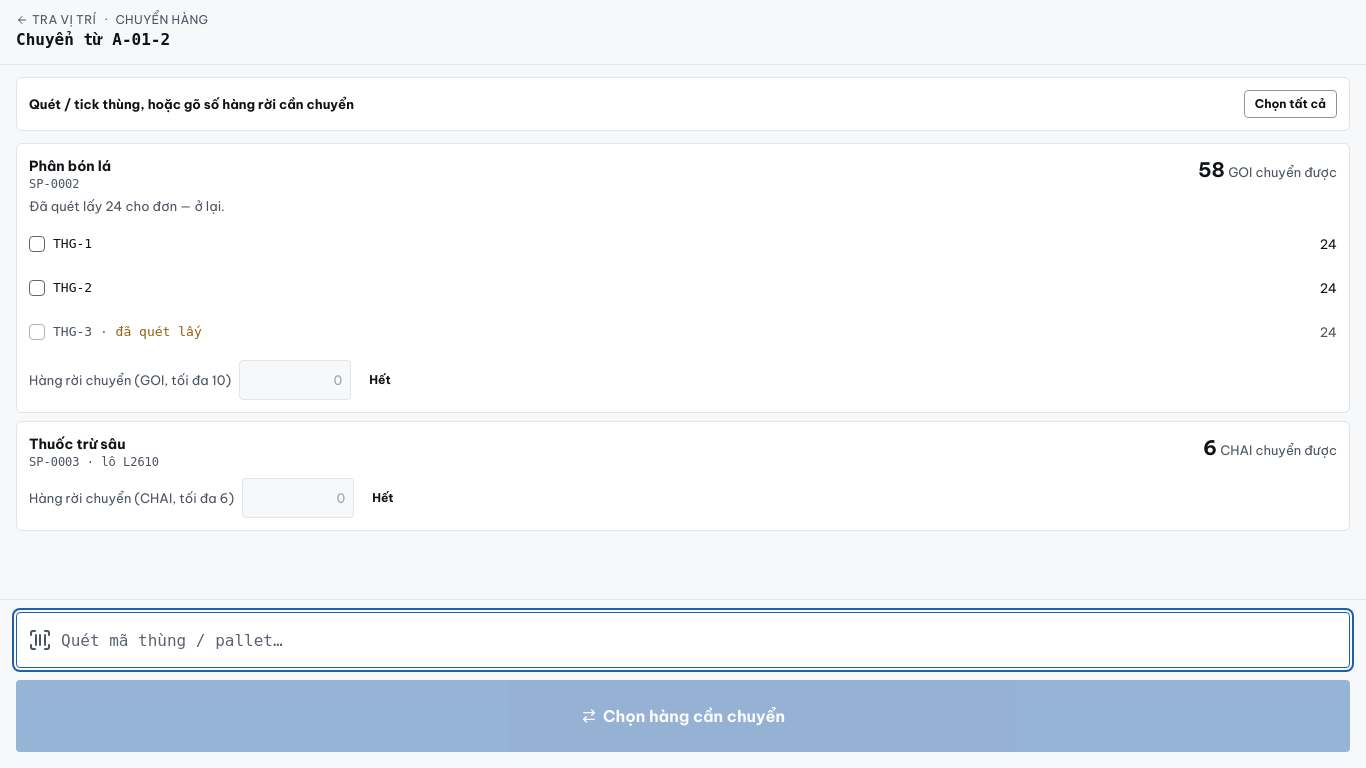
Test case: Chuyển hàng web (LOC-8) › quét thùng + gõ hàng rời → quét vị trí đích → chuyển; kết quả trỏ lại / tách / sự cố
Expected: the list named "Hàng chuyển được" is shown, [16,143,1350,531]
In the field labelled "Quét mã thùng / pallet…": (683, 640) [16,612,1350,668], type "THG-1"
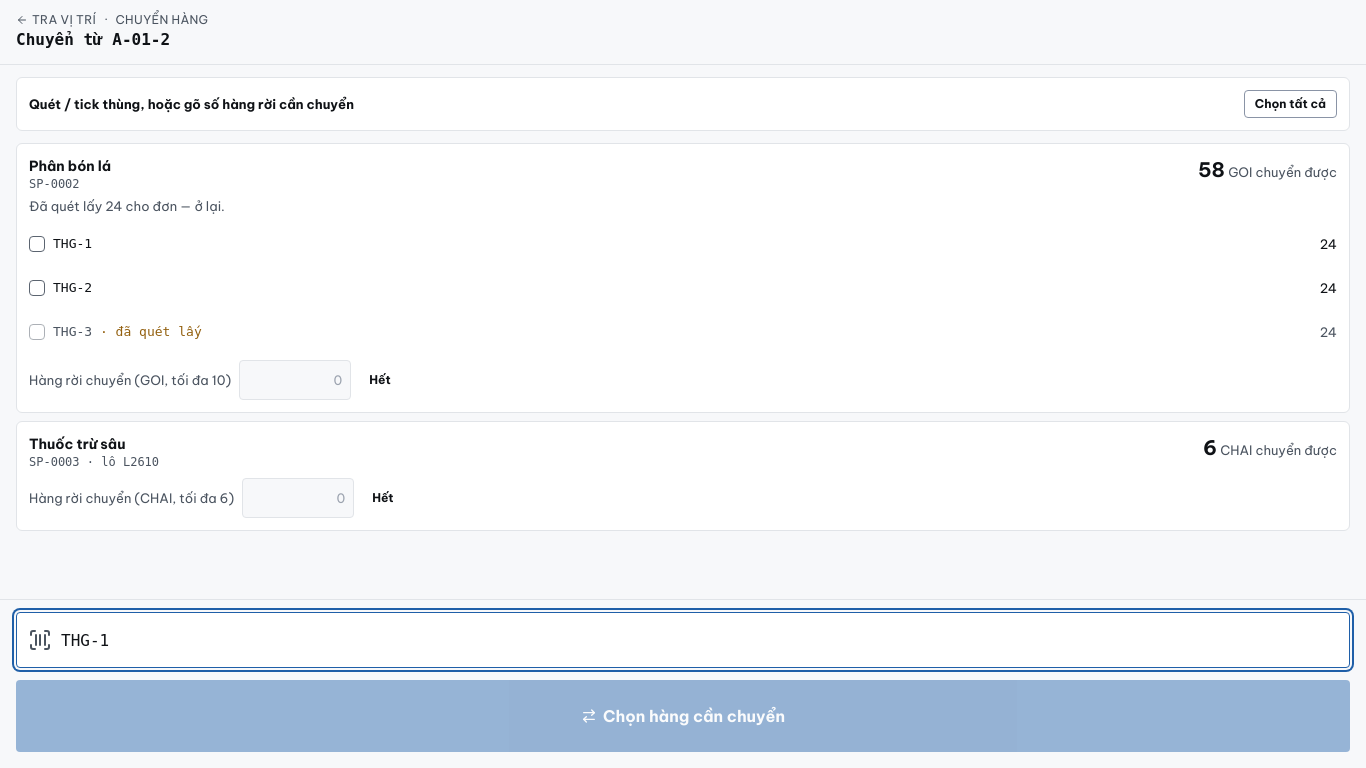
Press Enter in the field named "Quét", box [16,612,1350,668]
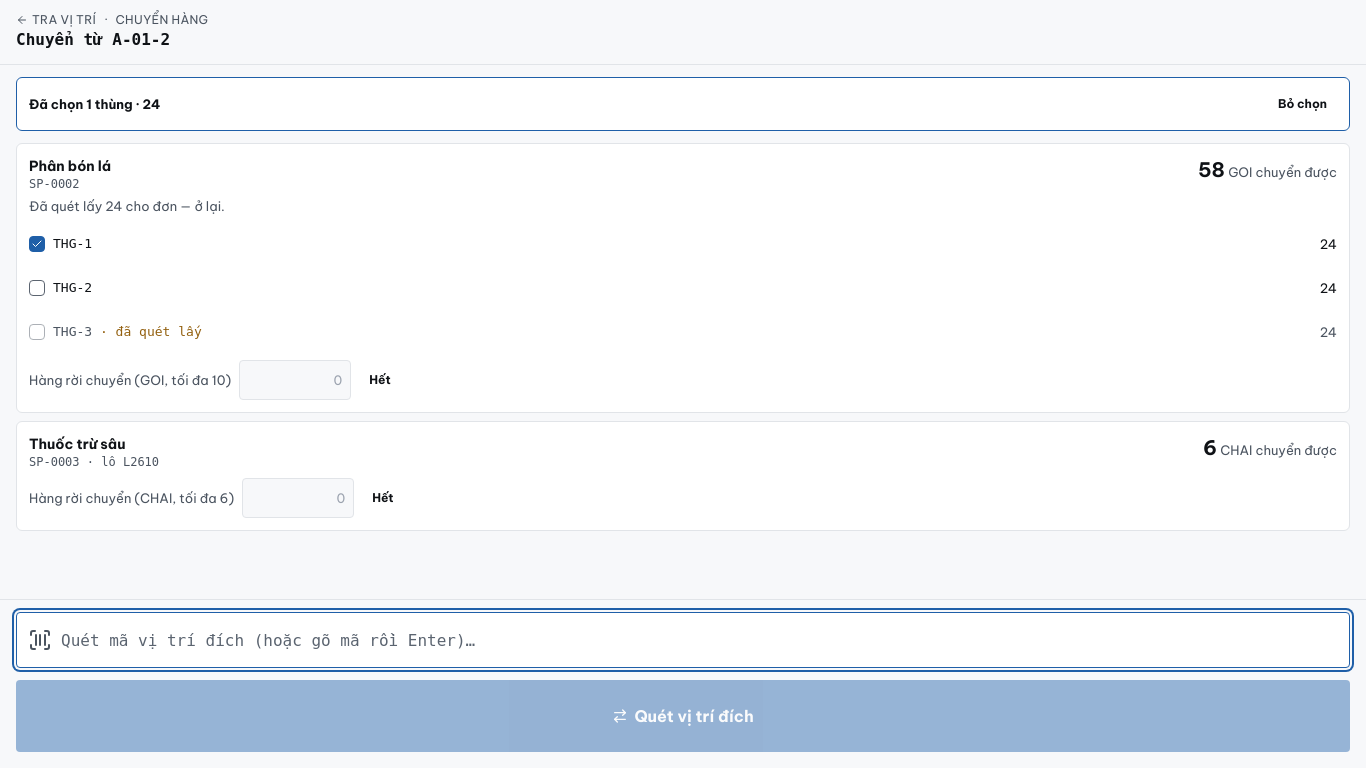
Expected: the checkbox named "Chọn thùng THG-3" is disabled, [29,324,45,340]
Expected: the checkbox named "Chọn thùng THG-1" is checked, [29,236,45,252]
In the field named "Hàng rời SP-0003 chuyển": (298, 498) [242,478,354,518], type "4"
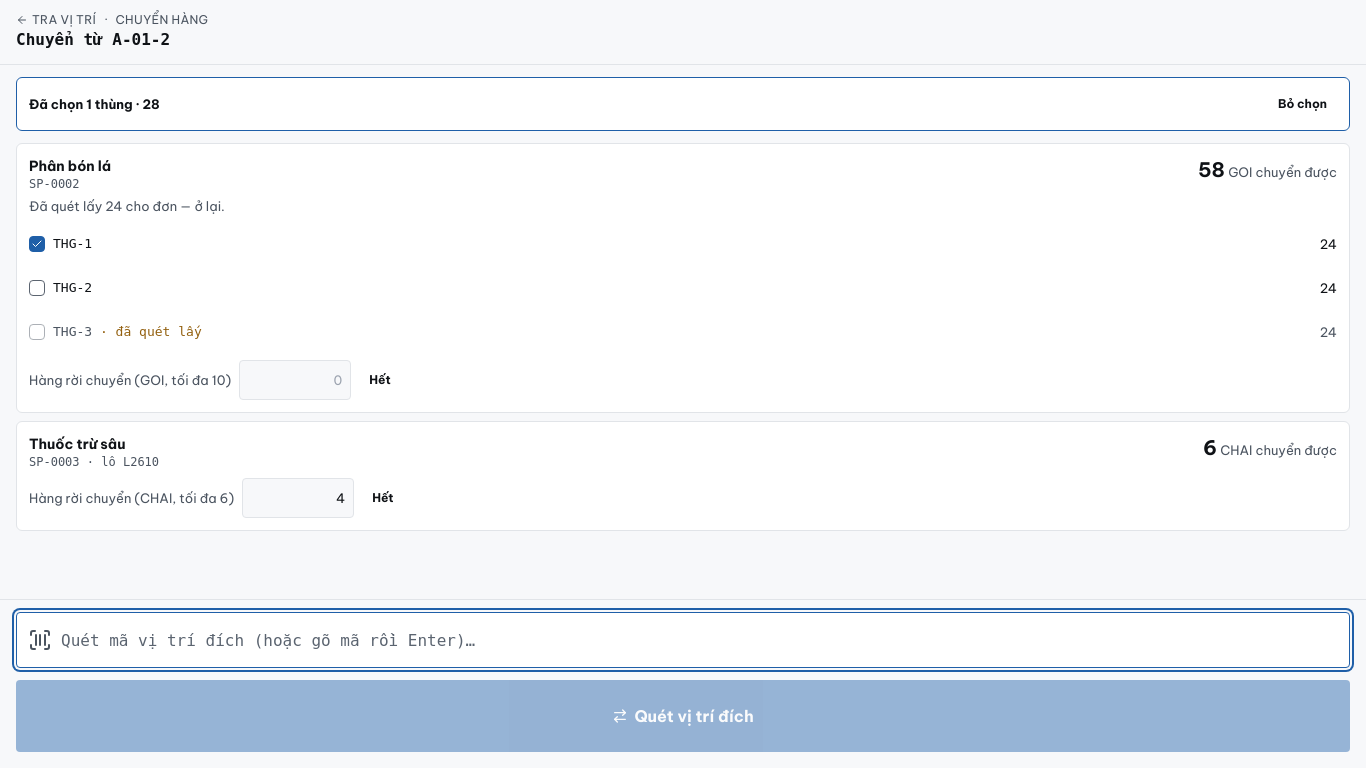
Expected: the element "Đã chọn" shows "Đã chọn 1 thùng · 28", [29,96,160,112]
In the field labelled "Quét mã vị trí đích (hoặc gõ mã rồi Enter)…": (683, 640) [16,612,1350,668], type "LOC-B-02-1"
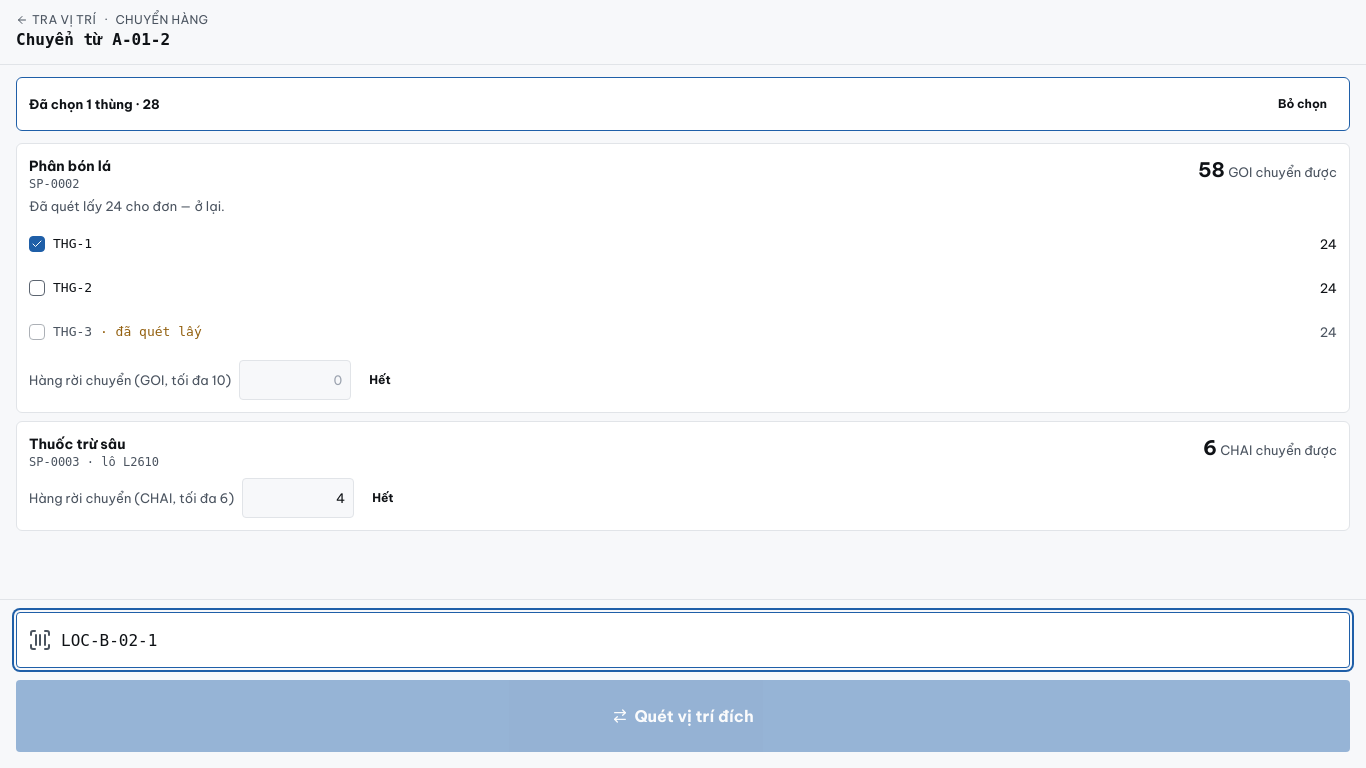
Press Enter in the field named "Quét", box [16,612,1350,668]
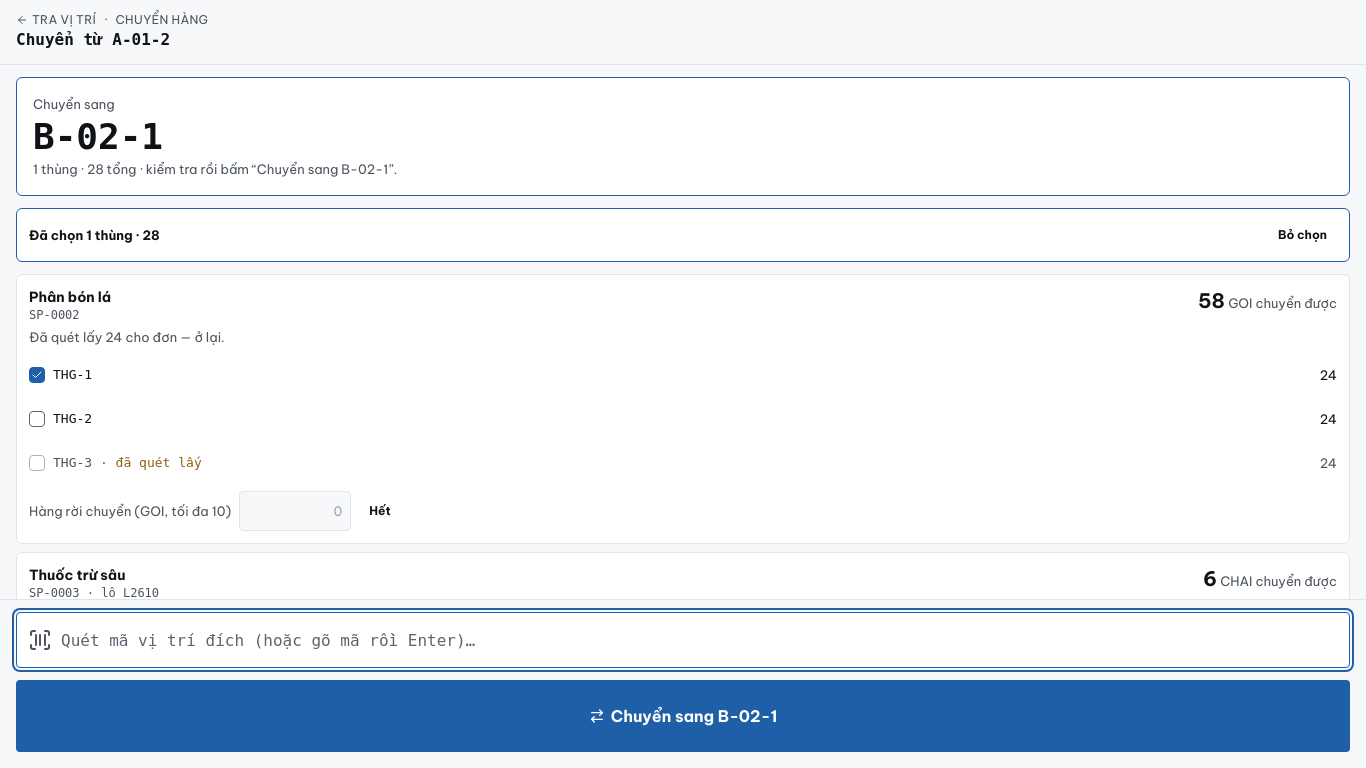
Expected: the element named "Vị trí đích" shows "B-02-1", [33,116,163,157]
Click the button "Chuyển sang B-02-1": (683, 716) [16,680,1350,752]
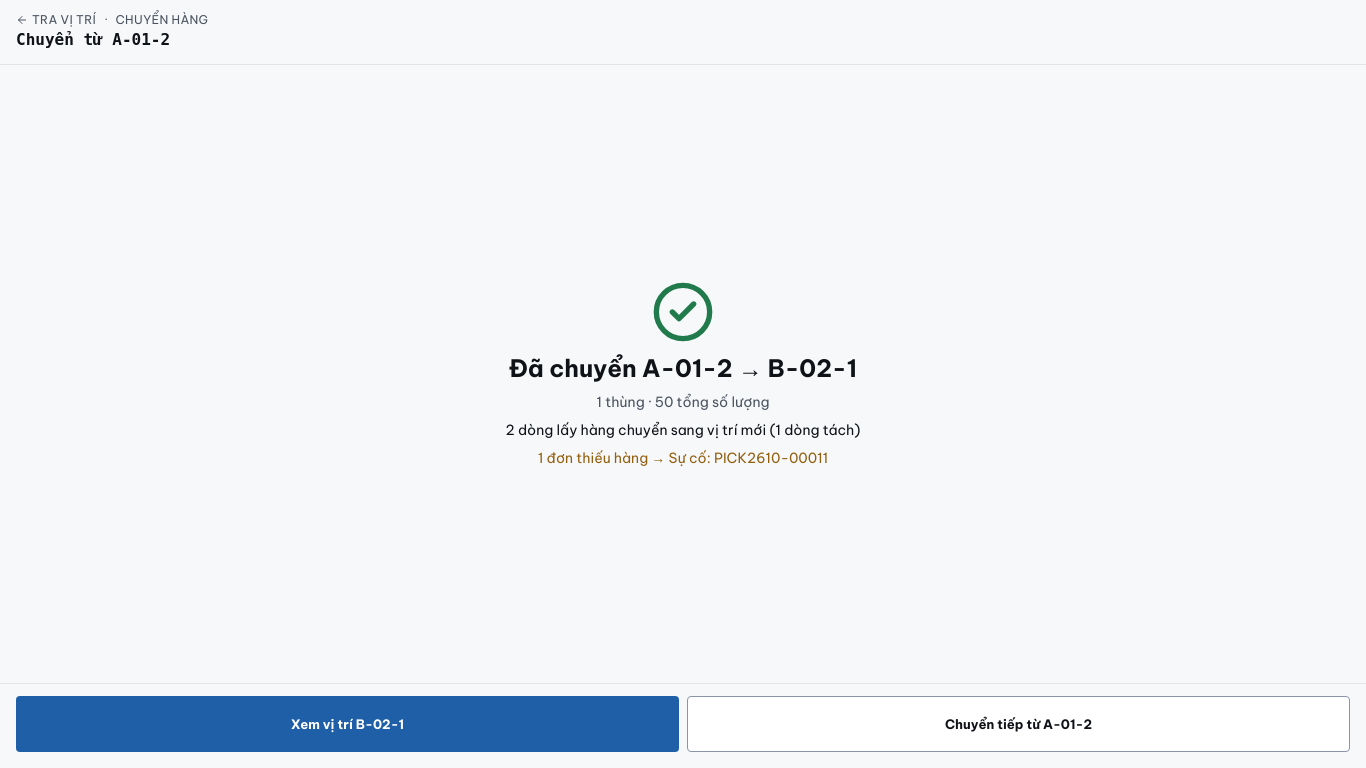
Expected: the text "Đã chuyển A-01-2 → B-02-1" is shown, [509,352,857,384]
Expected: the text "2 dòng lấy hàng chuyển sang vị trí mới (1 dòng tách)" is shown, [506,420,860,440]
Expected: the text "1 đơn thiếu hàng → Sự cố: PICK2610-00011" is shown, [538,448,828,468]
